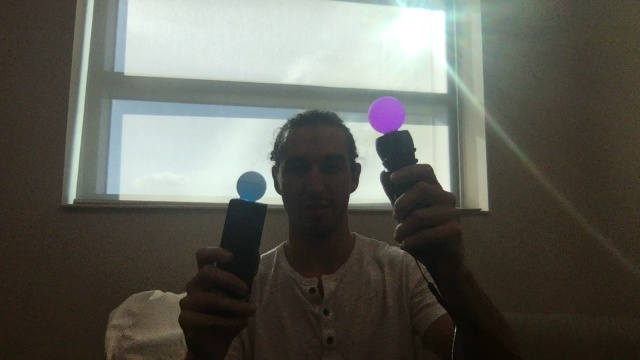wand: (368, 97, 406, 133), (236, 171, 269, 202)
